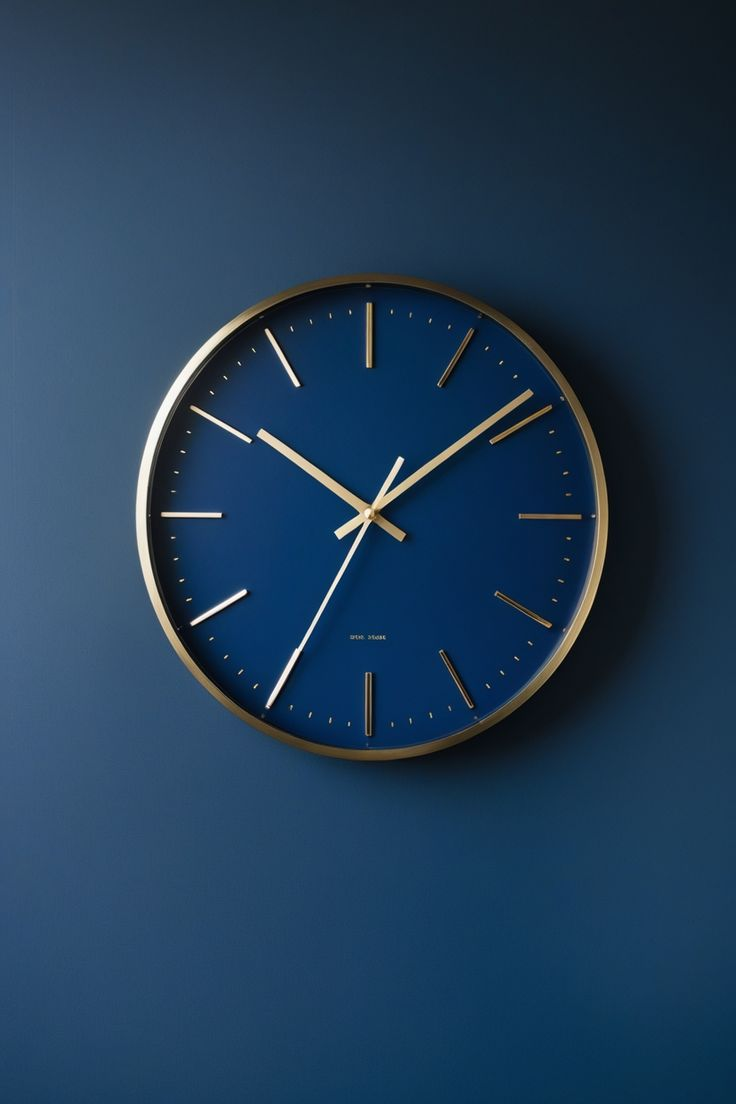clock: (6, 4, 736, 1101)
